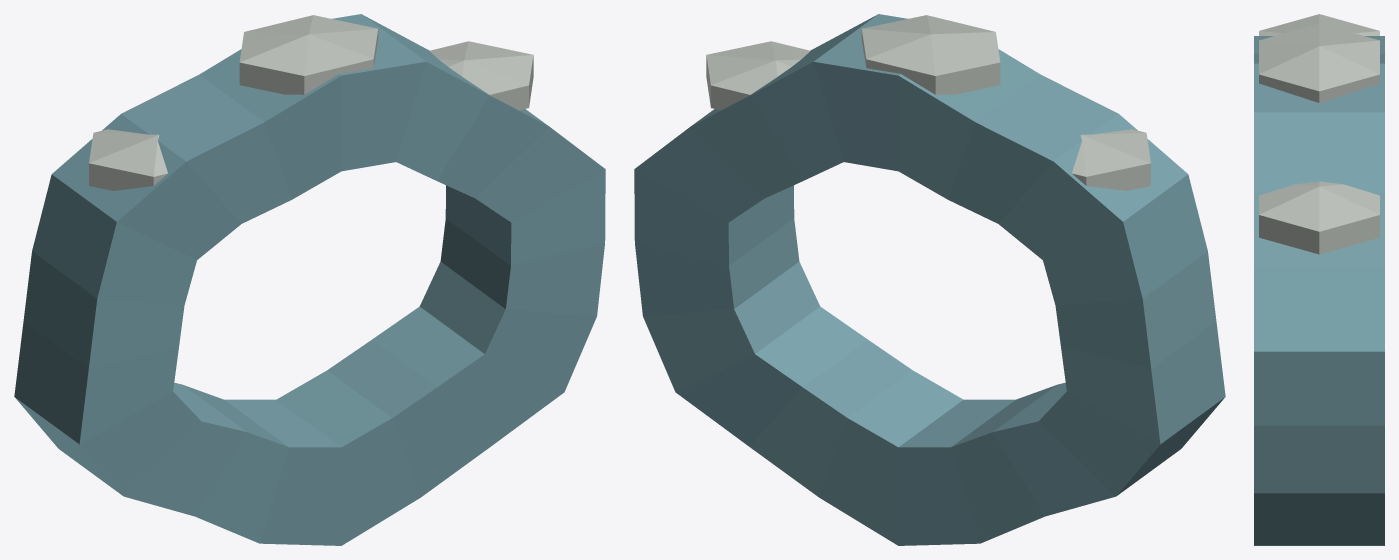
The model's file is Environment_Feature_Snow_IceArch_001_LOD1.glb.
3 views of the same model, side by side, from view 1: azimuth 30°, elevation 25°; view 2: azimuth 150°, elevation 25°; view 3: azimuth 270°, elevation 25° (orthographic).
Parts seen in each view (by area): view 1: Environment_Feature_Snow_IceArch_001_LOD1; view 2: Environment_Feature_Snow_IceArch_001_LOD1; view 3: Environment_Feature_Snow_IceArch_001_LOD1.
Boxes of the visible parts, box(x1,y1,x2,y2) form: Environment_Feature_Snow_IceArch_001_LOD1: box(14, 14, 605, 545); Environment_Feature_Snow_IceArch_001_LOD1: box(634, 14, 1225, 545); Environment_Feature_Snow_IceArch_001_LOD1: box(1254, 14, 1384, 545).
Size of the model in its own units: 5.59 by 4.95 by 1.2.
